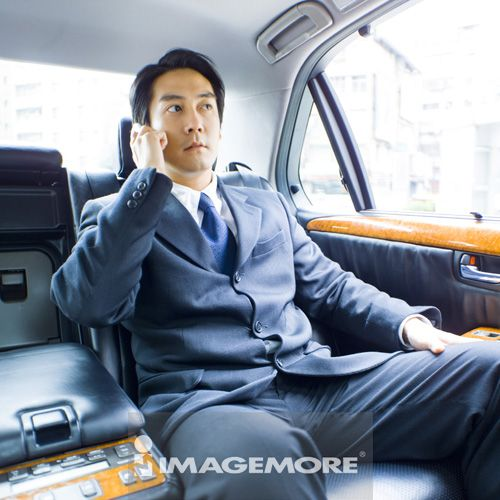talk: (126, 85, 220, 181)
